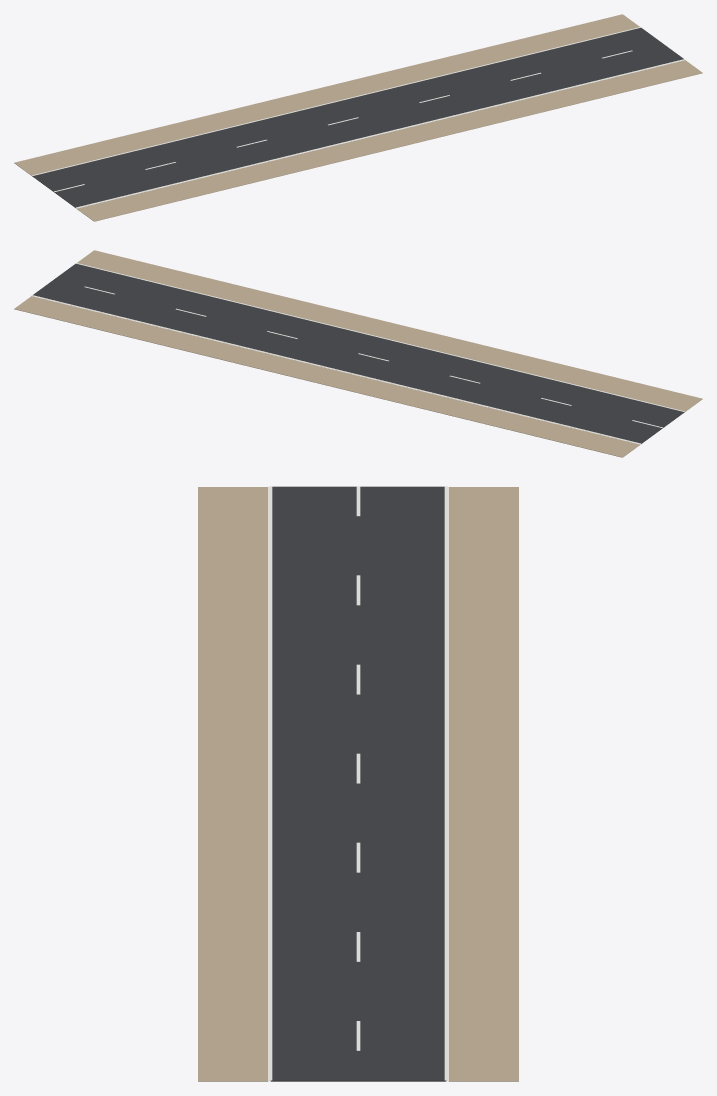
File: road.glb
3 views of the same model, one above another, from view 1: azimuth 30°, elevation 25°; view 2: azimuth 150°, elevation 25°; view 3: azimuth 270°, elevation 25° (orthographic). The views are drawn at different scales.
Parts seen in each view (by area): view 1: road__asphalt, road__shoulder_-2.0, road__shoulder_5.5, road__edge_5.5, road__edge_-2.0; view 2: road__asphalt, road__shoulder_5.5, road__shoulder_-2.0, road__edge_5.5, road__edge_-2.0; view 3: road__asphalt, road__shoulder_5.5, road__shoulder_-2.0, road__edge_5.5, road__edge_-2.0.
Boxes of the visible parts, <box> form: road__asphalt: <box>32,27,683,207</box>; road__shoulder_-2.0: <box>77,60,702,221</box>; road__shoulder_5.5: <box>14,14,639,175</box>; road__edge_5.5: <box>32,27,640,175</box>; road__edge_-2.0: <box>76,59,684,208</box>; road__asphalt: <box>33,263,684,443</box>; road__shoulder_5.5: <box>14,296,639,457</box>; road__shoulder_-2.0: <box>77,250,702,411</box>; road__edge_5.5: <box>32,295,640,444</box>; road__edge_-2.0: <box>76,263,684,411</box>; road__asphalt: <box>270,486,446,1081</box>; road__shoulder_5.5: <box>448,487,518,1081</box>; road__shoulder_-2.0: <box>198,487,268,1081</box>; road__edge_5.5: <box>444,486,447,1080</box>; road__edge_-2.0: <box>269,486,272,1080</box>.
Size of the model in its own units: 60 by 0.055 by 13.7.
